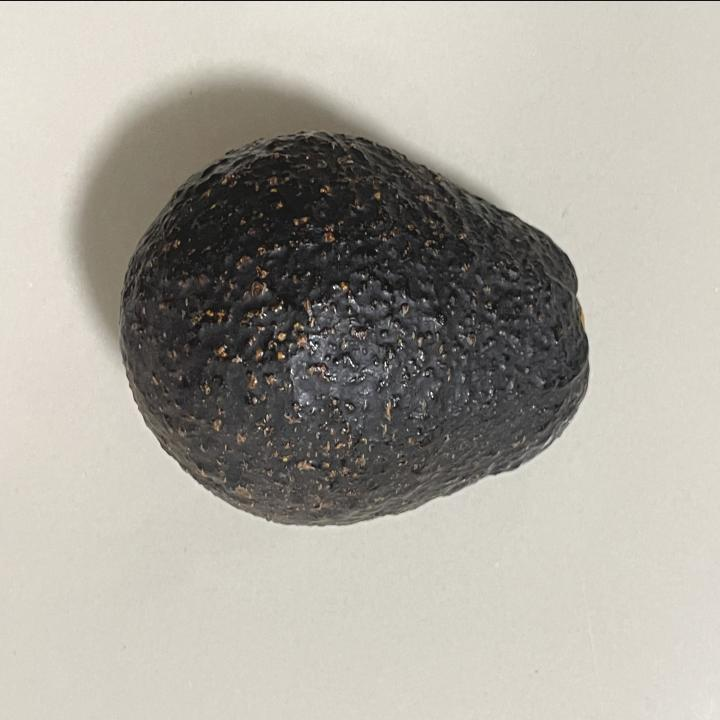Level2: (112, 126, 595, 537)
